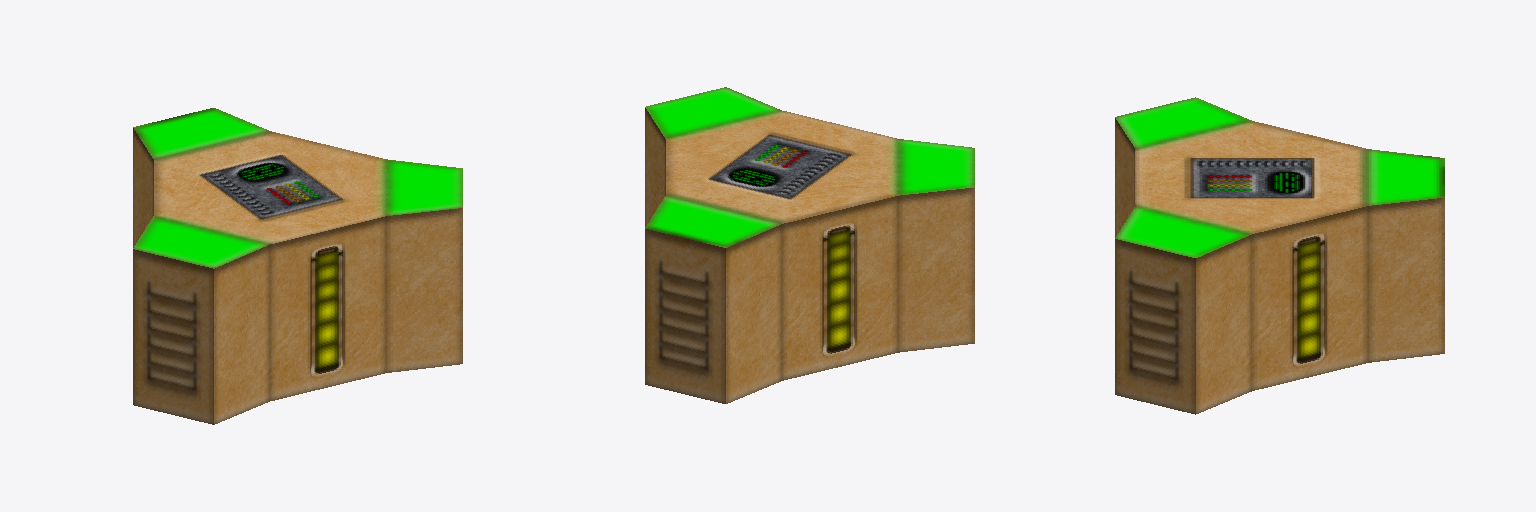
The picture shows the model from 3 angles: view 1: azimuth 30°, elevation 25°; view 2: azimuth 150°, elevation 25°; view 3: azimuth 270°, elevation 25°; orthographic projection.
Visible parts, largest first — view 1: cylinder1_sep40; view 2: cylinder1_sep40; view 3: cylinder1_sep40.
Part boxes in pixels (x1,y1,x2,y2): cylinder1_sep40: (133,108,462,424); cylinder1_sep40: (645,87,974,403); cylinder1_sep40: (1115,97,1444,414).
Bounding box in the file's own units: 2.84 × 1.29 × 2.46.
1 materials, 1 textured.